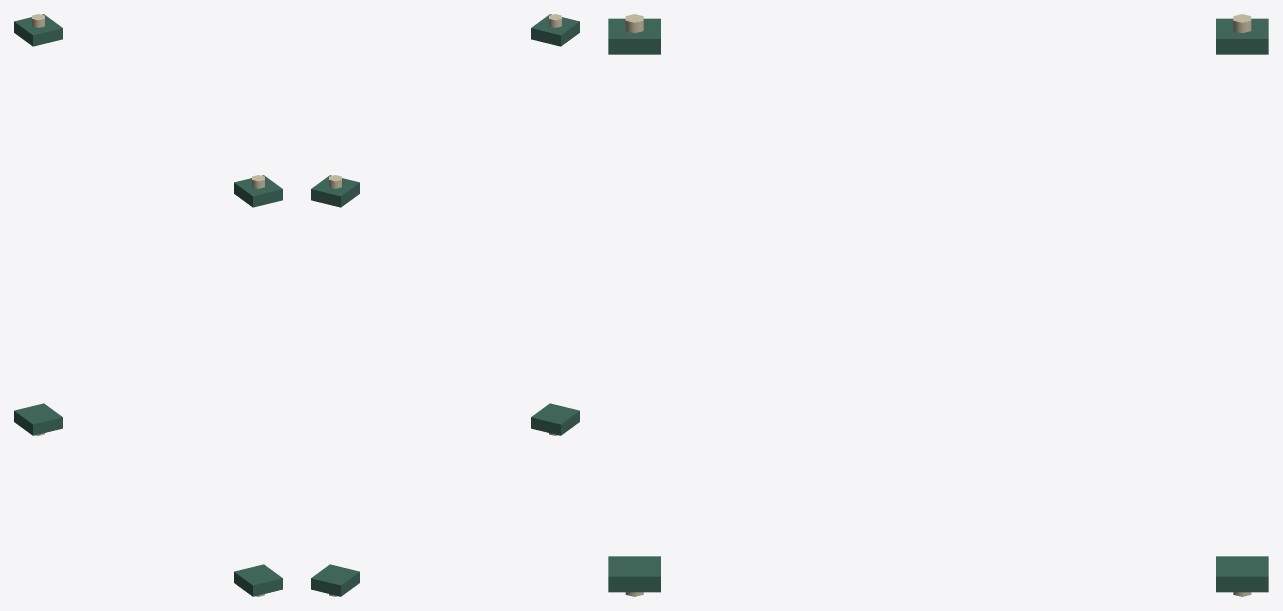
The model's file is tank4200_valves.obj.
3 views of the same model, side by side, from view 1: azimuth 30°, elevation 25°; view 2: azimuth 150°, elevation 25°; view 3: azimuth 270°, elevation 25° (orthographic). The views are drawn at different scales.
Parts seen in each view (by area): view 1: tank4200_valves; view 2: tank4200_valves; view 3: tank4200_valves.
Part boxes in pixels (box(x1,y1,x2,y2)): tank4200_valves: box(14, 14, 282, 596); tank4200_valves: box(311, 14, 579, 596); tank4200_valves: box(608, 14, 1268, 596).
Size of the model in its own units: 1 by 13.24 by 13.8.
